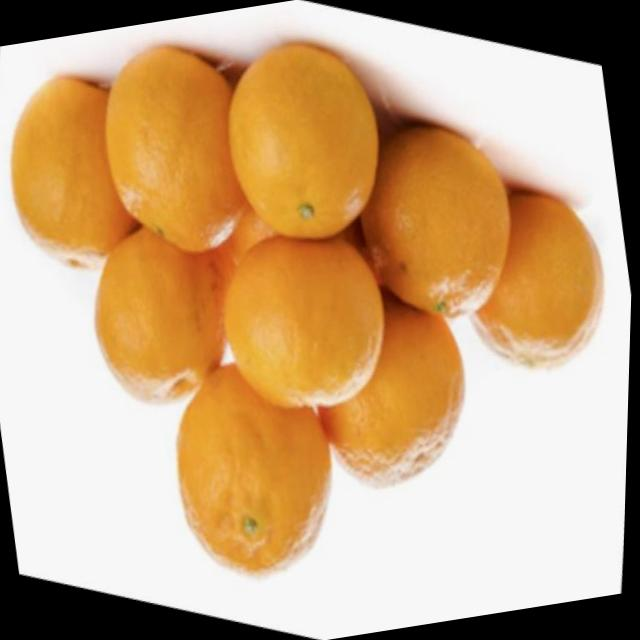Orange: (161, 350, 353, 589), (213, 31, 397, 252), (345, 112, 529, 333), (302, 280, 485, 500), (89, 36, 260, 266), (210, 222, 402, 422), (452, 181, 621, 383), (0, 67, 151, 284), (79, 217, 243, 416)
